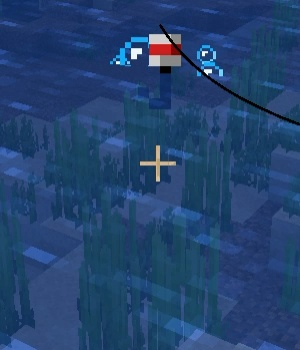up: (138, 29, 183, 116)
